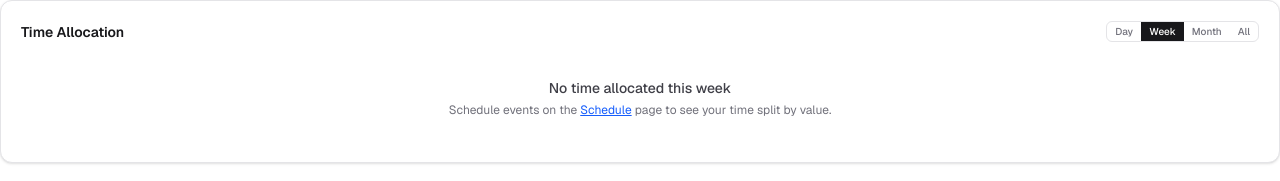
Scenario: TimeAllocation component › empty state › displays period-specific empty label for "month"
Expected: the text "No time allocated this week" is shown, top-left (549, 78), bottom-right (731, 98)
Click the button "month" at (1207, 32), box top-left (1184, 22), bottom-right (1230, 41)
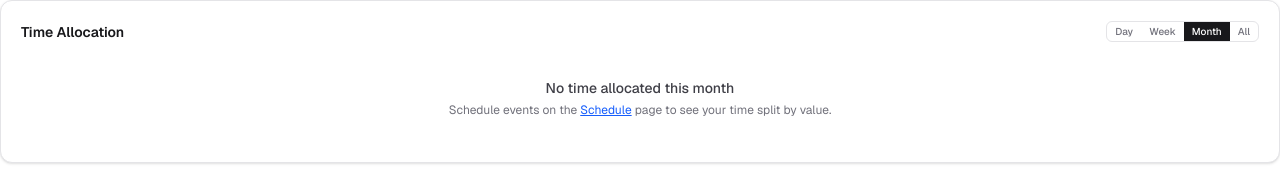
Now the text "No time allocated this month" is shown, box top-left (546, 78), bottom-right (734, 98)
